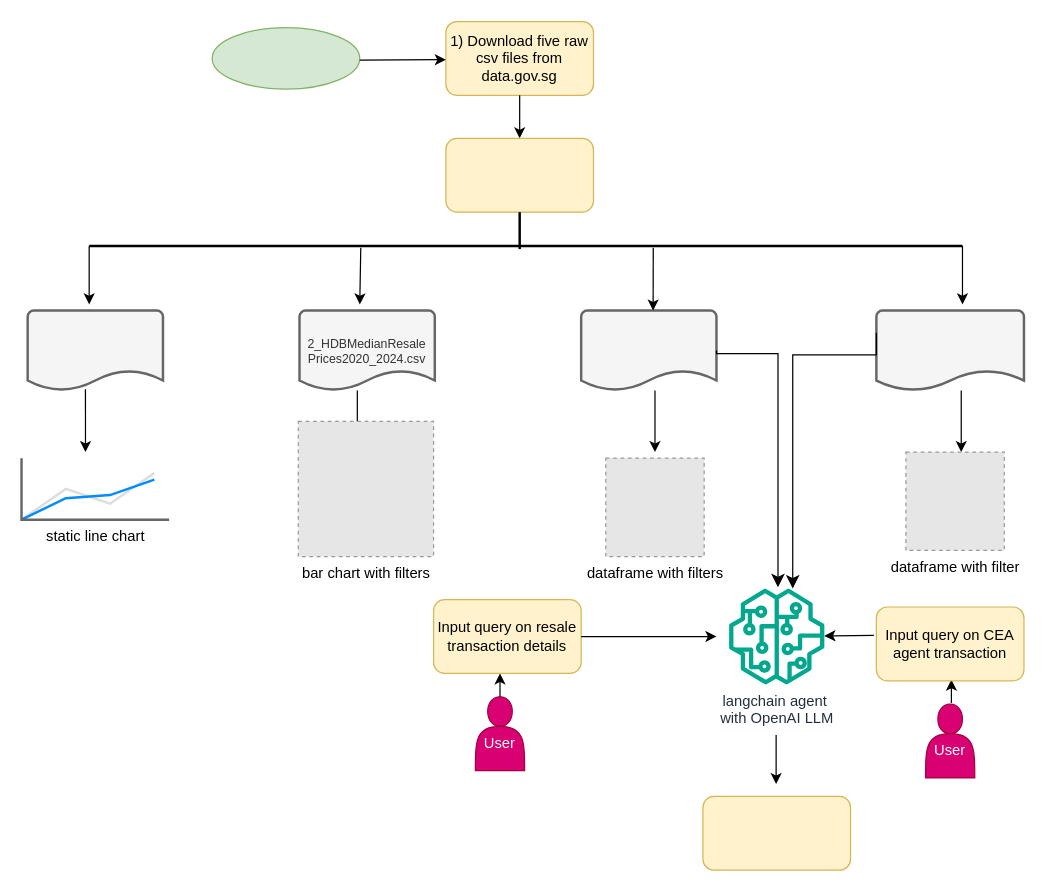
This 1046x892 diagram has some shape labels left out. Grey dashed boxes stand in for pictures. Each missing label, with the box of its shape:
1_HDBResalePrice Index2009_2024.csv: (26, 309, 164, 391)
2) Clean, filter, join data: (445, 137, 593, 212)
3) Agent replies to user's input query: (702, 795, 851, 870)
3_HDBResalePrices DetailsOct23_Oct24.csv: (579, 309, 717, 391)
4_CEAAgentTransactions Sep23-Sep24.csv: (875, 309, 1025, 391)
START: (211, 26, 360, 89)
